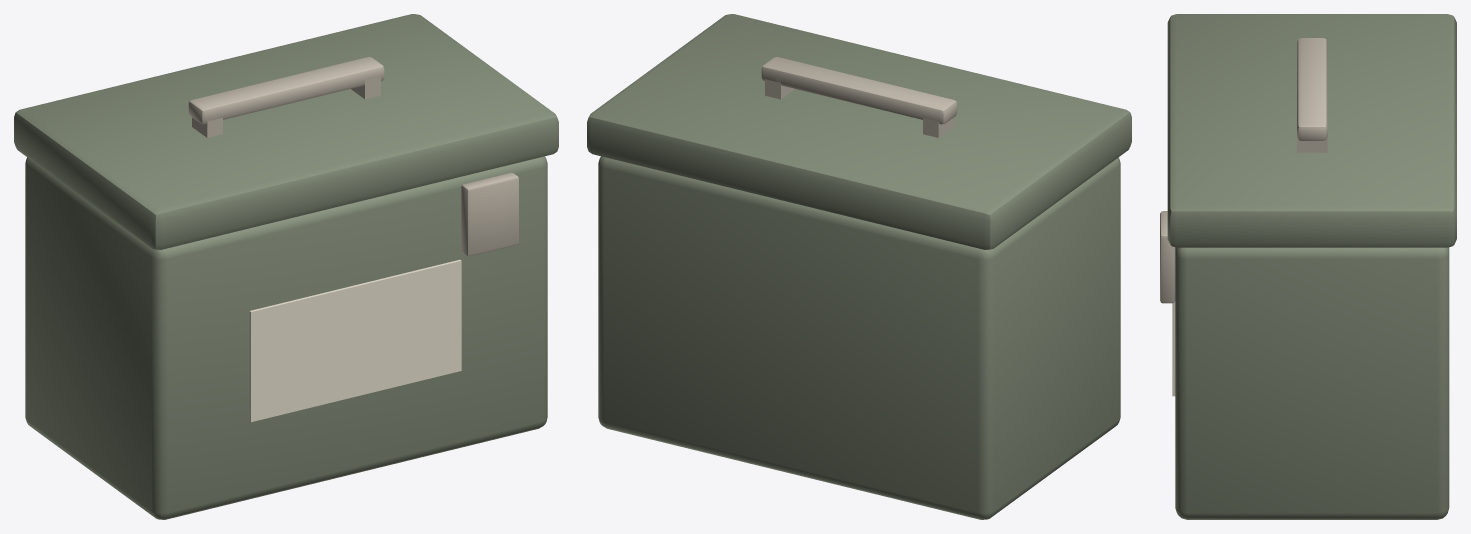
File: caixa_municao.glb
The picture shows the model from 3 angles, left to right: view 1: azimuth 30°, elevation 25°; view 2: azimuth 150°, elevation 25°; view 3: azimuth 270°, elevation 25°; orthographic projection.
Parts seen in each view (by area): view 1: caixa_municao_box_olive, caixa_municao_box_label, caixa_municao_gun_accent; view 2: caixa_municao_box_olive, caixa_municao_gun_accent; view 3: caixa_municao_box_olive, caixa_municao_gun_accent, caixa_municao_box_label.
Boxes of the visible parts, <box> form: caixa_municao_box_olive: <box>14,14,558,519</box>; caixa_municao_box_label: <box>249,259,461,422</box>; caixa_municao_gun_accent: <box>188,57,518,256</box>; caixa_municao_box_olive: <box>587,14,1131,519</box>; caixa_municao_gun_accent: <box>761,57,957,137</box>; caixa_municao_box_olive: <box>1167,14,1456,519</box>; caixa_municao_gun_accent: <box>1160,38,1327,303</box>; caixa_municao_box_label: <box>1172,301,1175,396</box>.
Size of the model in its own units: 0.31 by 0.251 by 0.195.
